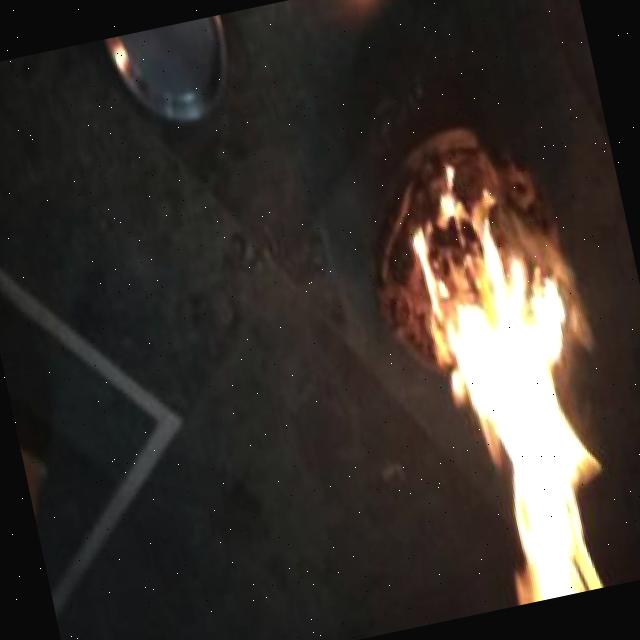fire: (385, 131, 640, 613)
